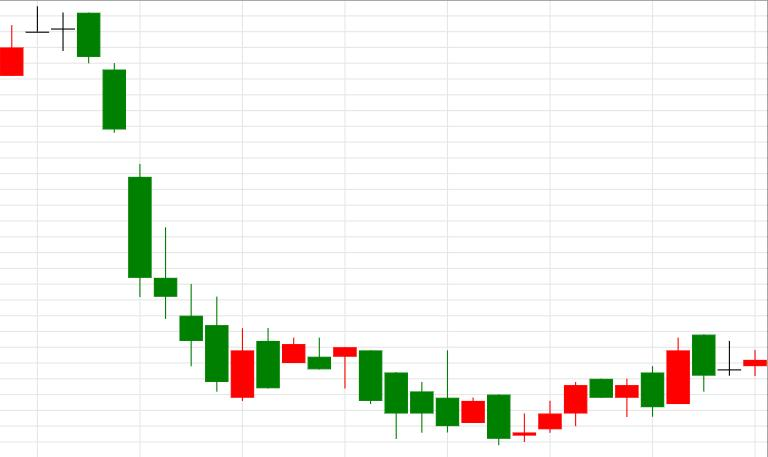inverse_hammer_rise: (333, 347, 460, 440)
